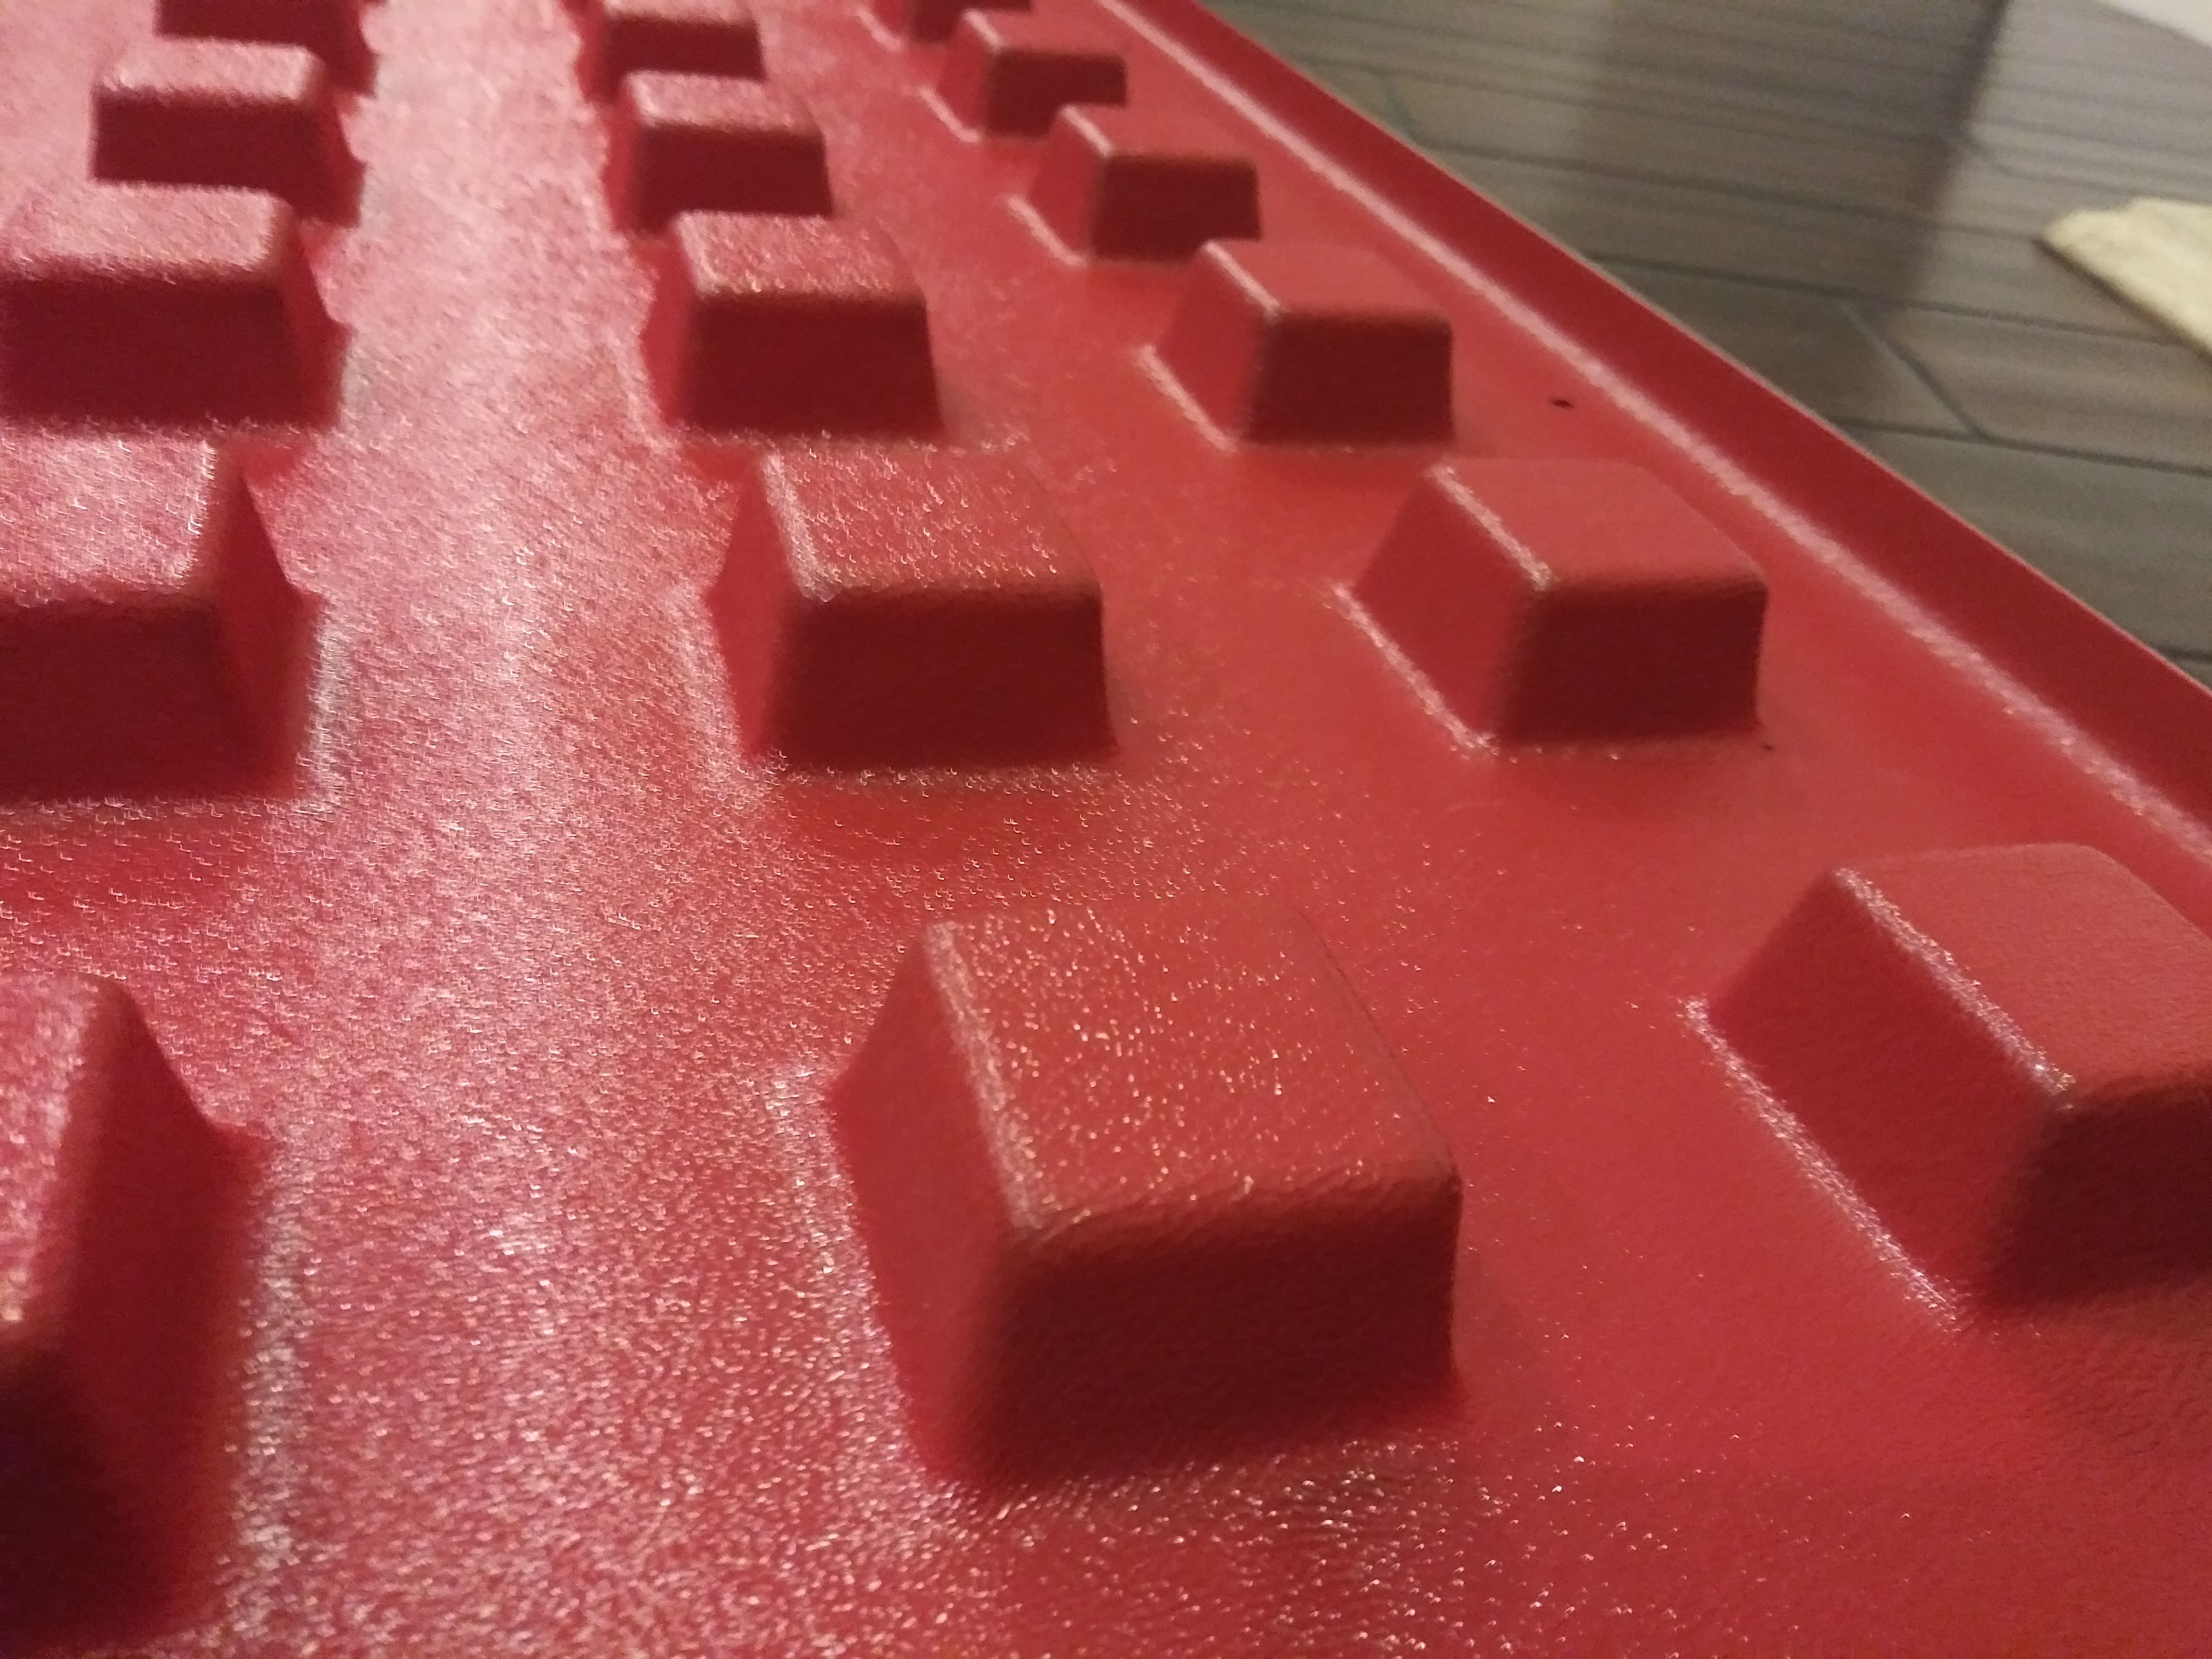red foundation: (9, 9, 1975, 1610)
